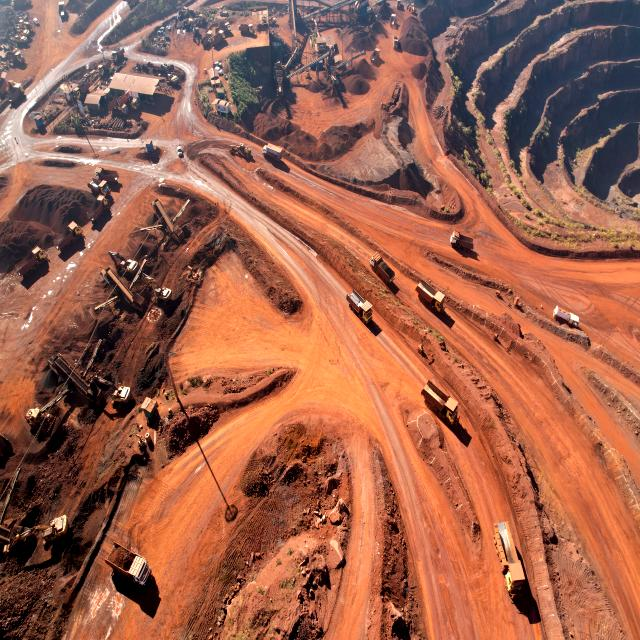Dumper truck: (494, 512, 526, 601), (109, 540, 152, 596), (418, 375, 461, 426), (416, 278, 446, 314), (53, 220, 84, 253), (16, 243, 47, 275), (86, 191, 108, 223), (370, 252, 392, 284), (91, 165, 118, 191), (350, 290, 371, 322), (107, 92, 130, 118), (120, 89, 138, 114), (450, 234, 475, 249), (0, 73, 15, 93), (9, 84, 24, 104), (240, 22, 254, 36), (97, 61, 110, 76), (111, 47, 124, 62), (74, 85, 87, 100), (202, 30, 214, 46), (213, 31, 225, 46), (216, 22, 231, 33), (370, 47, 380, 62), (57, 1, 67, 15), (393, 36, 401, 49), (389, 13, 398, 24), (392, 34, 400, 43), (59, 0, 68, 7)
Excavator: (6, 516, 72, 550), (88, 377, 132, 408), (143, 271, 174, 305), (109, 251, 139, 276), (175, 5, 188, 28)
car: (33, 16, 39, 25)
